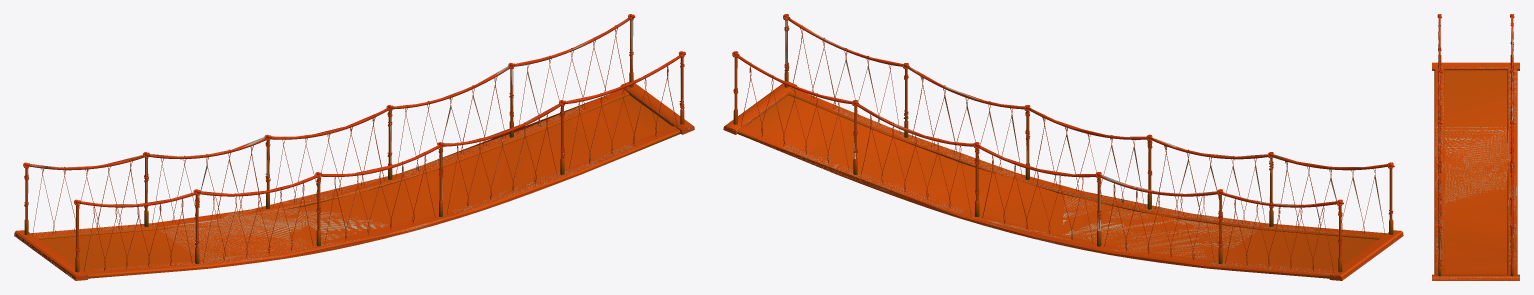
Rendered from KB3D_GAE_Bridge_A.glb.
3 views of the same model, side by side, from view 1: azimuth 30°, elevation 25°; view 2: azimuth 150°, elevation 25°; view 3: azimuth 270°, elevation 25° (orthographic). The views are drawn at different scales.
Parts seen in each view (by area): view 1: L1, L0, L2; view 2: L1, L0, L2; view 3: L1, L0, L2.
Boxes of the visible parts, x1=… form: L1: x1=14, y1=16, x2=693, y2=280; L0: x1=14, y1=14, x2=694, y2=280; L2: x1=14, y1=15, x2=694, y2=280; L1: x1=726, y1=15, x2=1401, y2=278; L0: x1=723, y1=14, x2=1403, y2=280; L2: x1=727, y1=17, x2=1402, y2=279; L1: x1=1432, y1=17, x2=1519, y2=280; L0: x1=1432, y1=14, x2=1519, y2=280; L2: x1=1432, y1=17, x2=1519, y2=280.
Bounding box in the file's own units: 12.25 × 2.09 × 2.11.
